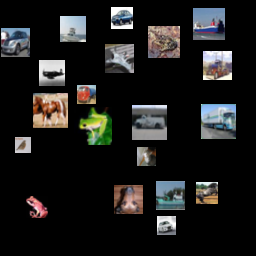airplane: (105, 44, 134, 73), (39, 60, 65, 86)
automobile: (1, 28, 30, 57), (111, 7, 133, 29), (157, 216, 176, 235)
bird: (15, 137, 31, 153)
cat: (137, 147, 156, 166)
dog: (114, 185, 143, 214)
frog: (74, 107, 112, 145), (148, 26, 180, 58), (26, 196, 48, 218)
ship: (193, 8, 225, 40), (156, 181, 185, 210), (60, 16, 86, 42)
